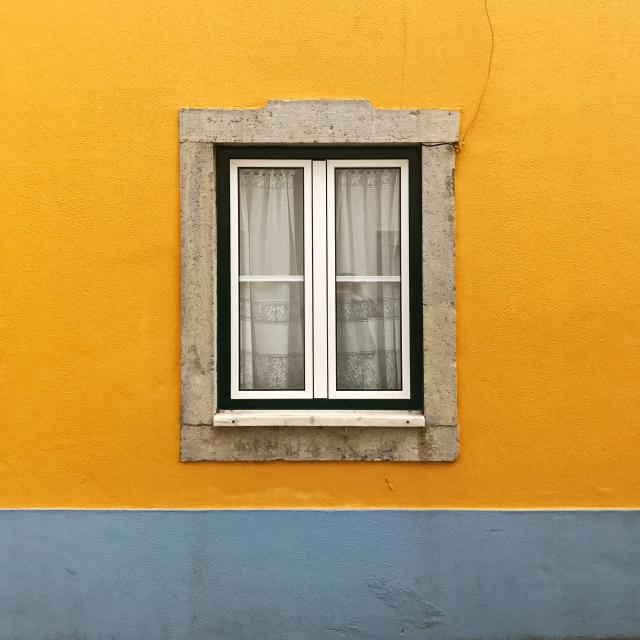Concrete: (150, 96, 499, 481)
